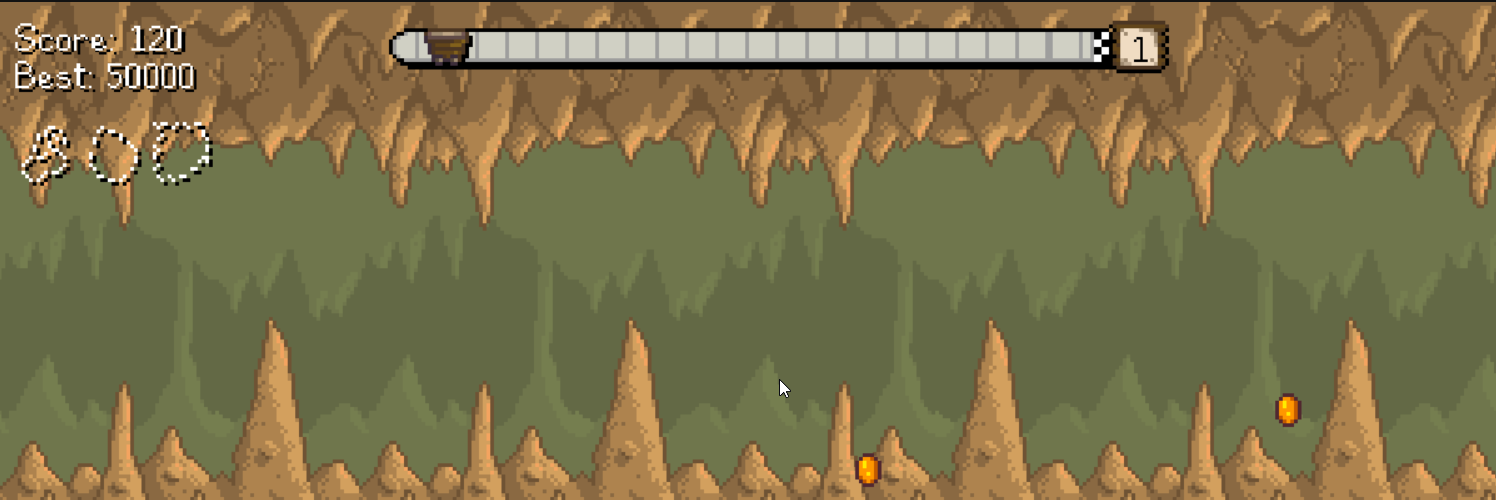coins: (1277, 393, 1302, 426), (857, 454, 881, 486)
score: (122, 17, 191, 55)
